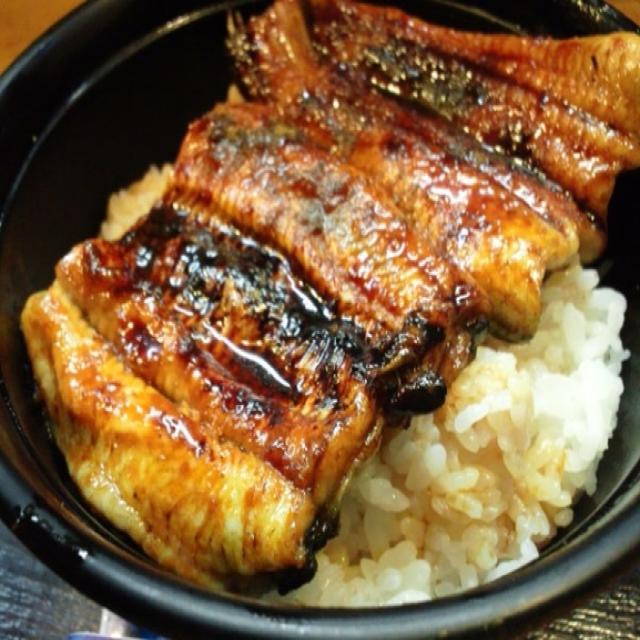熟制海鲜: (20, 10, 633, 608)
